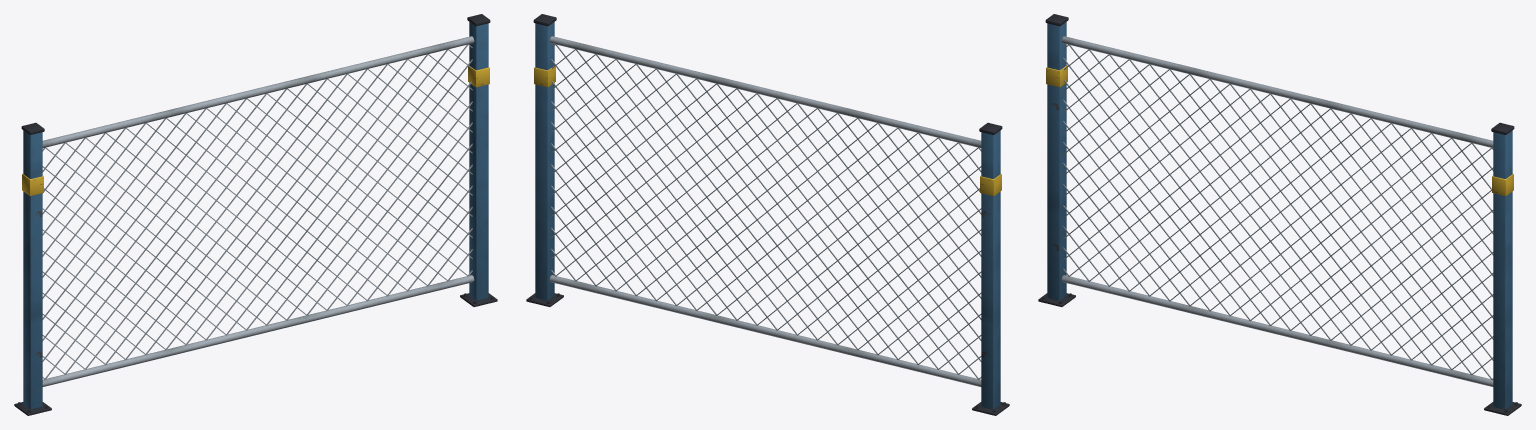
The model's file is net_fence.glb.
3 views of the same model, side by side, from view 1: azimuth 30°, elevation 25°; view 2: azimuth 150°, elevation 25°; view 3: azimuth 330°, elevation 25° (orthographic).
Parts seen in each view (by area): view 1: NetFenceMesh; view 2: NetFenceMesh; view 3: NetFenceMesh.
Boxes of the visible parts, x1,y1,x2,y2 form: NetFenceMesh: (14,14,497,415); NetFenceMesh: (526,14,1009,415); NetFenceMesh: (1038,14,1521,415).
Bounding box in the file's own units: 1.75 × 1 × 0.09.
Materials: 4 (4 with a texture image).
